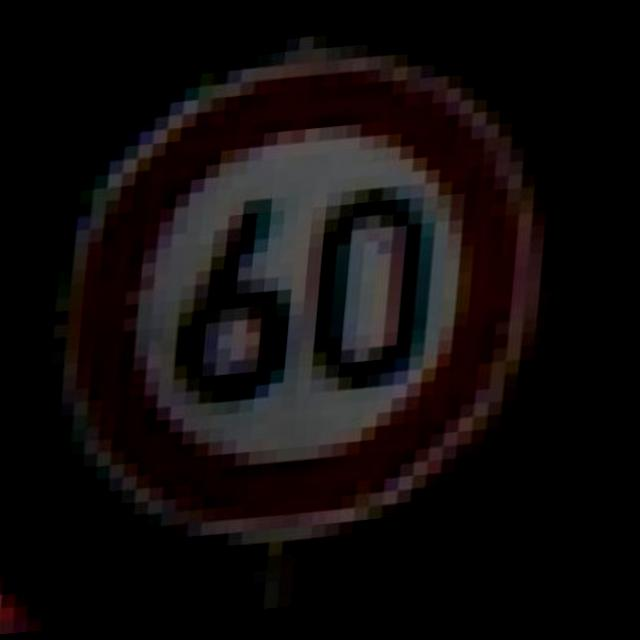limit60: (27, 25, 591, 581)
